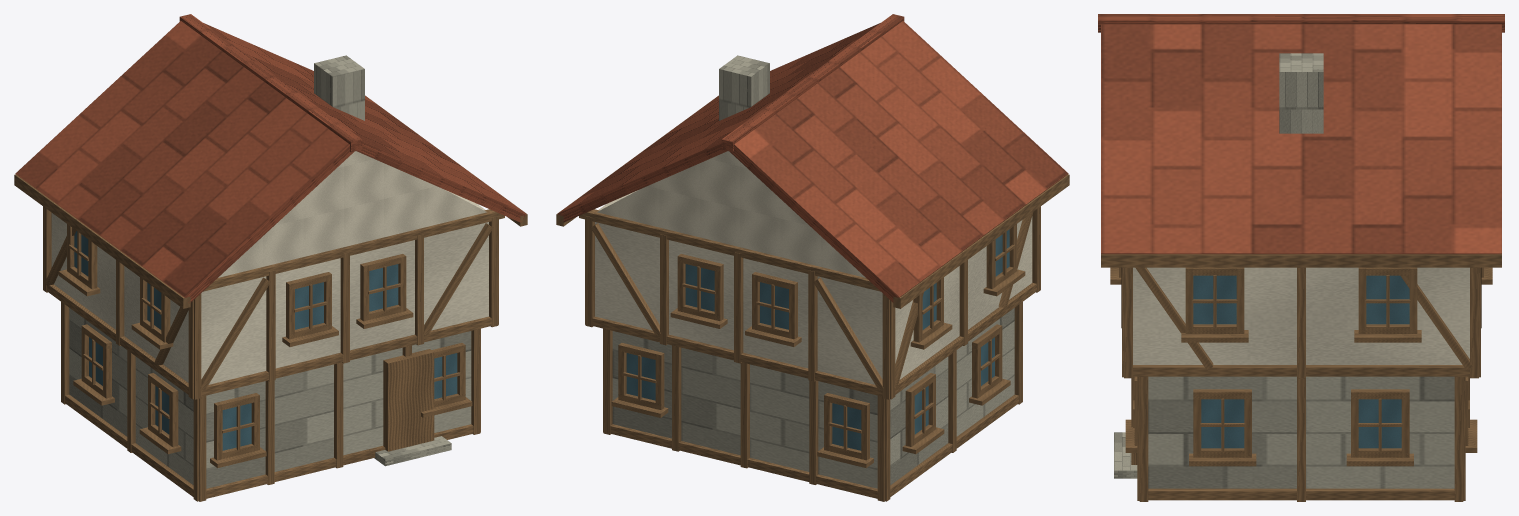
3 renders of one model, left to right at view 1: azimuth 30°, elevation 25°; view 2: azimuth 150°, elevation 25°; view 3: azimuth 270°, elevation 25°, orthographic. The views are drawn at different scales.
Visible parts, largest first — view 1: house-roof, house-wood, house-plaster, house-stone, house-glass; view 2: house-roof, house-wood, house-plaster, house-stone, house-glass; view 3: house-roof, house-wood, house-stone, house-plaster, house-glass.
Part boxes in pixels (x1,y1,x2,y2): house-roof: (15, 14, 526, 303); house-wood: (14, 95, 527, 501); house-plaster: (51, 151, 488, 384); house-stone: (69, 55, 471, 488); house-glass: (74, 231, 457, 450); house-roof: (557, 14, 1068, 302); house-wood: (556, 95, 1069, 501); house-plaster: (595, 151, 1032, 384); house-stone: (612, 55, 1014, 488); house-glass: (626, 229, 1009, 450); house-roof: (1098, 14, 1504, 254); house-wood: (1101, 254, 1501, 501); house-stone: (1114, 53, 1454, 488); house-plaster: (1133, 267, 1469, 364); house-glass: (1193, 275, 1409, 448).
Size of the model in its own units: 8.54 by 8.03 by 7.36.
5 materials, 5 textured.
